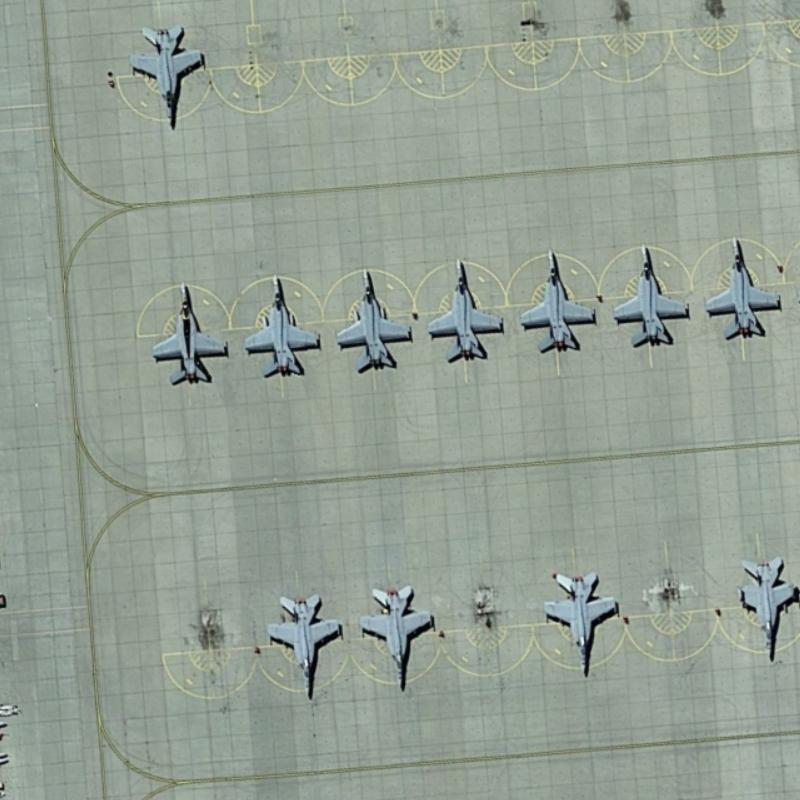A16: (421, 253, 508, 368), (539, 566, 623, 684), (514, 243, 600, 356), (261, 590, 345, 705), (356, 581, 439, 697), (241, 265, 323, 382), (606, 239, 693, 349), (333, 261, 415, 377), (147, 277, 230, 389), (702, 231, 785, 343), (127, 20, 206, 127), (733, 551, 799, 663)
